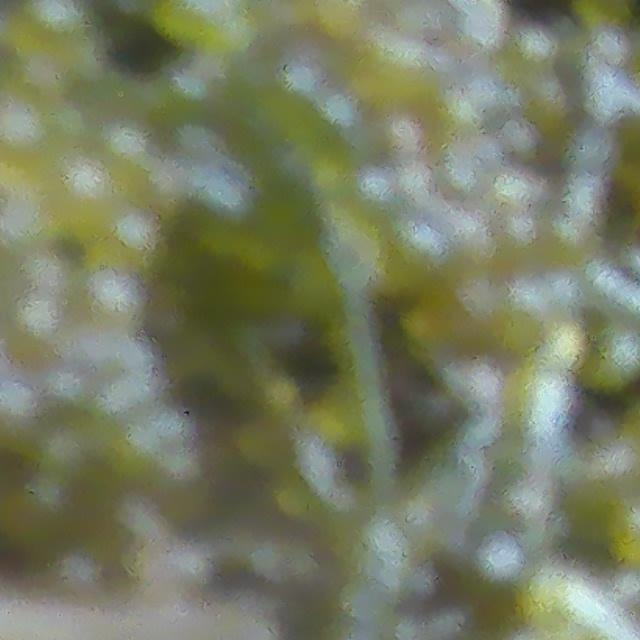SeaGrape: (511, 24, 557, 69)
